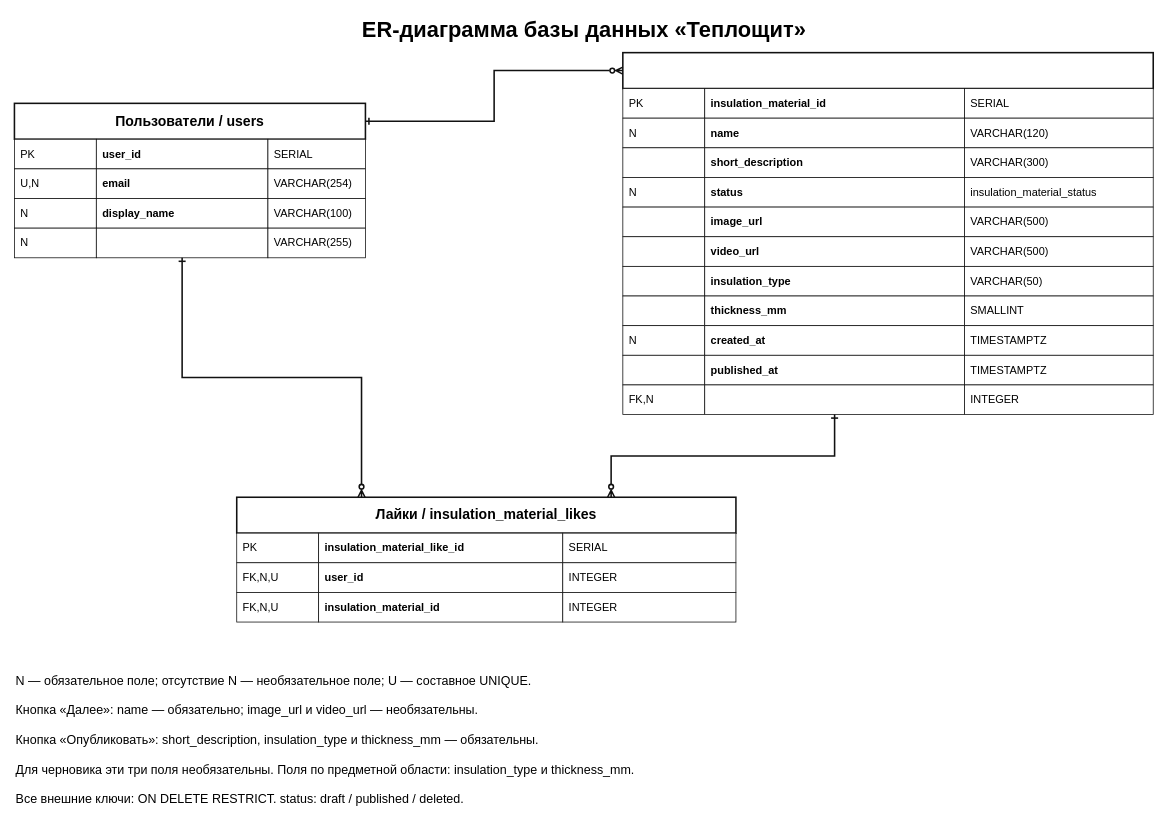
Some shapes in this 1167 by 824 pixel diagram are drawn without their labels. The shapes that lost their labels are listed below. From the top down, each one's box as (x1, y1, x2, y2) in pixels, then its label:
(622, 51, 1154, 89): Услуги теплоизоляции / insulation_materials
(96, 227, 268, 258): password_hash
(704, 384, 964, 415): creator_id
